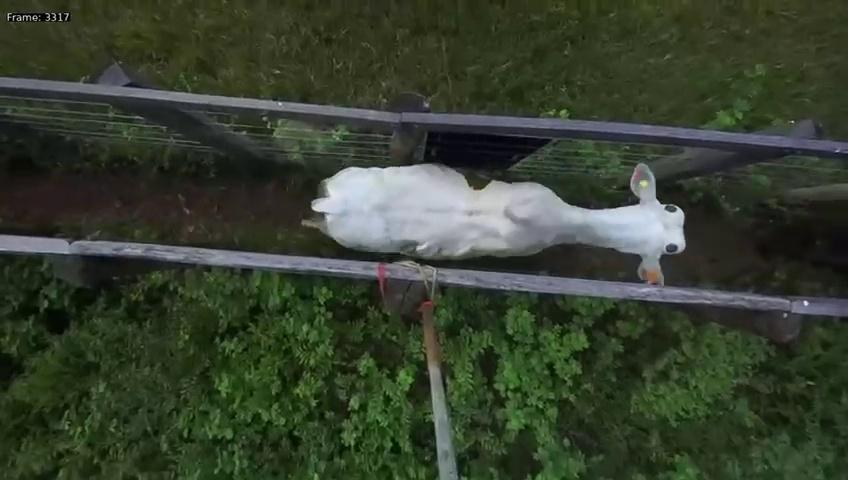cattle: (298, 147, 688, 287)
